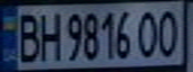1: (100, 8, 118, 60)
6: (112, 7, 136, 60)
8: (81, 8, 100, 61)
9: (63, 9, 84, 62)
B: (12, 9, 42, 62)
H: (36, 8, 63, 62)
O: (154, 6, 184, 58), (133, 7, 163, 58)
